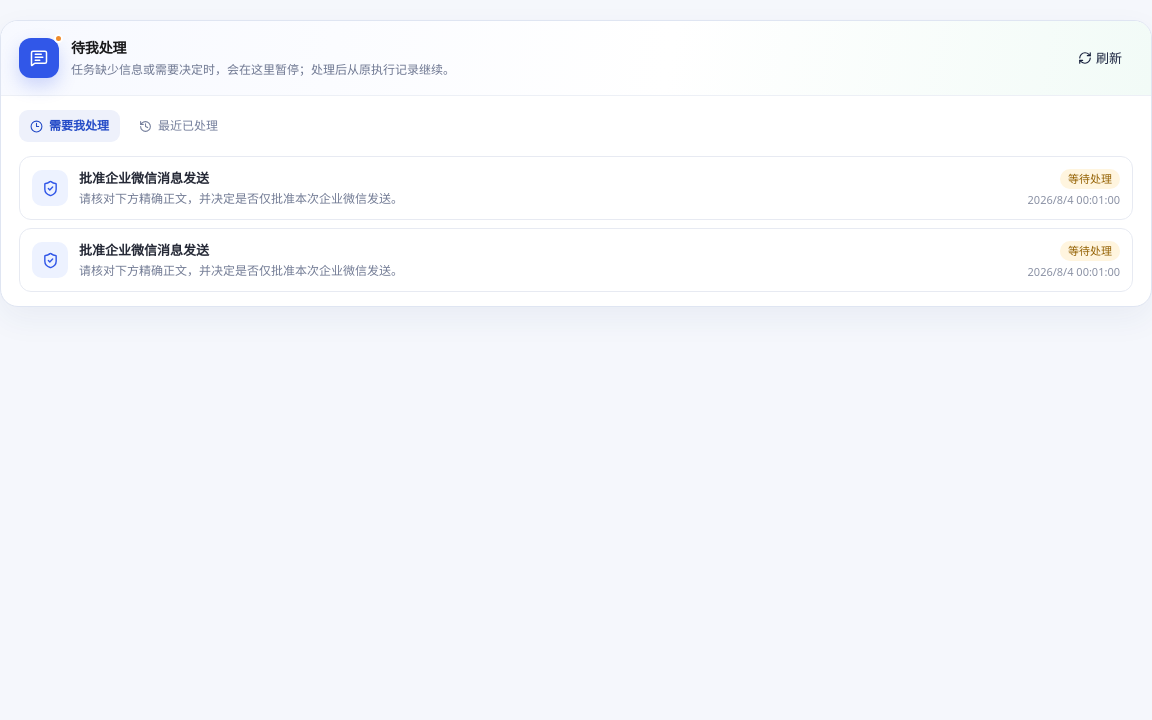
Test case: 同名待办按持久身份打开对应执行
This screenshot has width=1152, height=720.
Click the 3rd button at point(50, 260), box x1=19 y1=228 x2=1133 y2=292
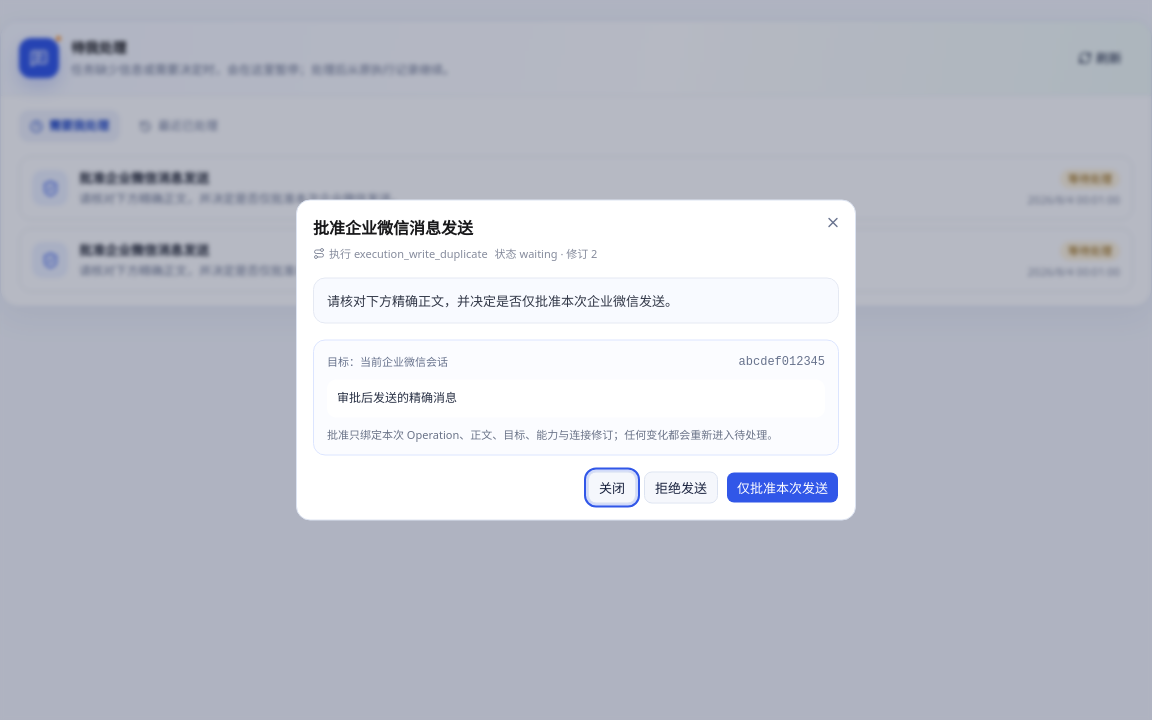
expect the dialog shows "批准企业微信消息发送": met, box x1=313 y1=220 x2=473 y2=236
